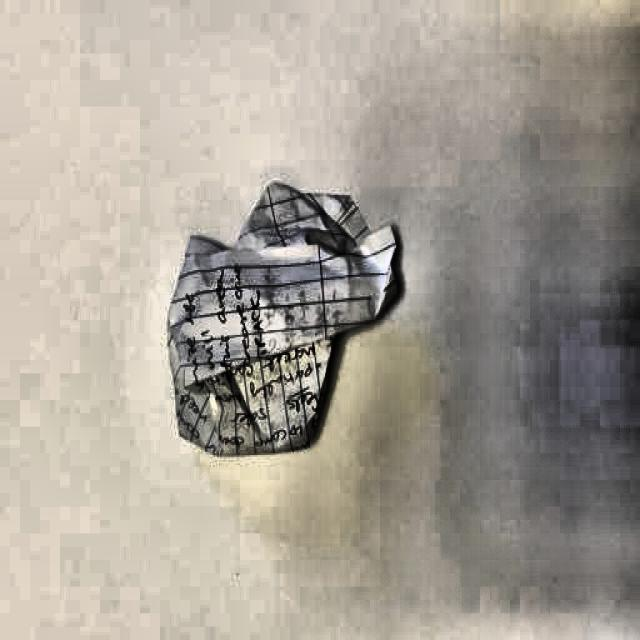paper: (168, 182, 401, 463)
